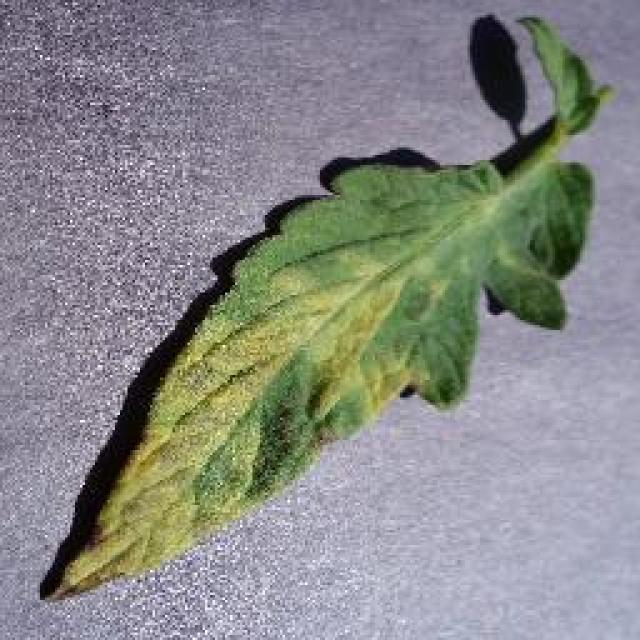Tomato___Leaf_Mold: (42, 18, 608, 595)
